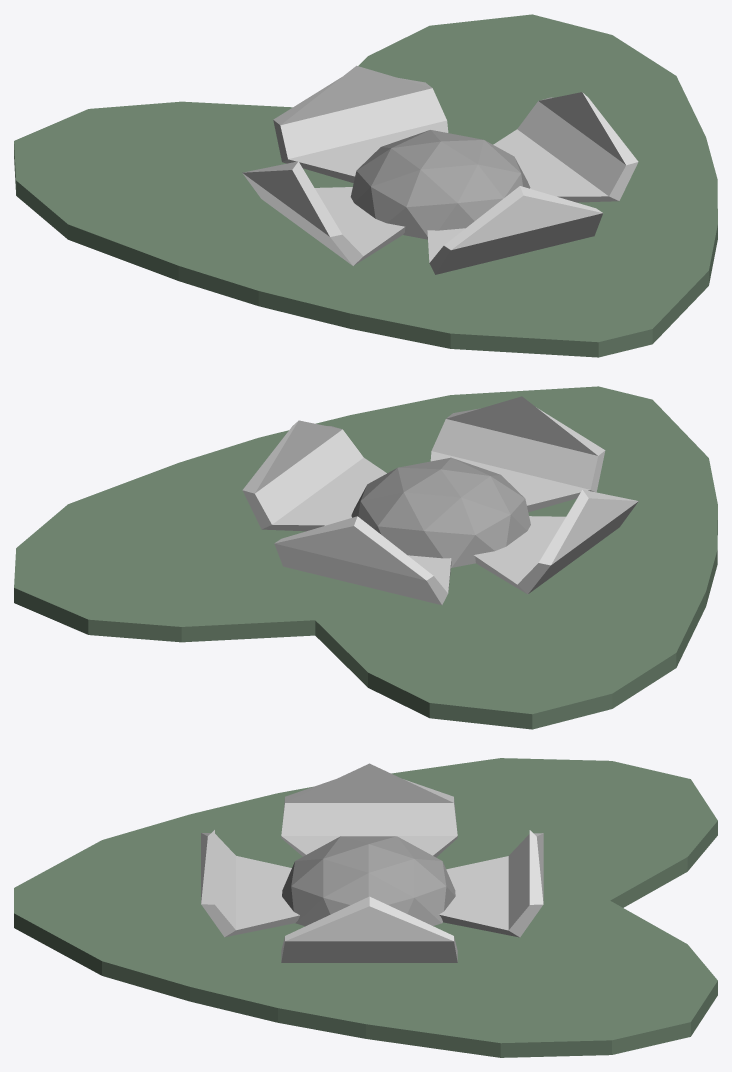
File: Flower_6_White.fbx
3 views of the same model, one above another, from view 1: azimuth 30°, elevation 25°; view 2: azimuth 150°, elevation 25°; view 3: azimuth 270°, elevation 25° (orthographic). The views are drawn at different scales.
Visible parts, largest first — view 1: Flower_6_White_Part_1, Flower_6_White_Part_2, Flower_6_White_Part_3; view 2: Flower_6_White_Part_1, Flower_6_White_Part_2, Flower_6_White_Part_3; view 3: Flower_6_White_Part_1, Flower_6_White_Part_2, Flower_6_White_Part_3.
Boxes of the visible parts, left/top/right/bottom form: Flower_6_White_Part_1: left=14, top=14, right=717, bottom=357; Flower_6_White_Part_2: left=242, top=65, right=638, bottom=274; Flower_6_White_Part_3: left=350, top=130, right=530, bottom=239; Flower_6_White_Part_1: left=14, top=386, right=717, bottom=729; Flower_6_White_Part_2: left=242, top=396, right=638, bottom=605; Flower_6_White_Part_3: left=351, top=457, right=530, bottom=567; Flower_6_White_Part_1: left=14, top=758, right=717, bottom=1057; Flower_6_White_Part_2: left=201, top=763, right=543, bottom=962; Flower_6_White_Part_3: left=282, top=836, right=455, bottom=926.
Size of the model in its own units: 76.67 by 10.7 by 80.
